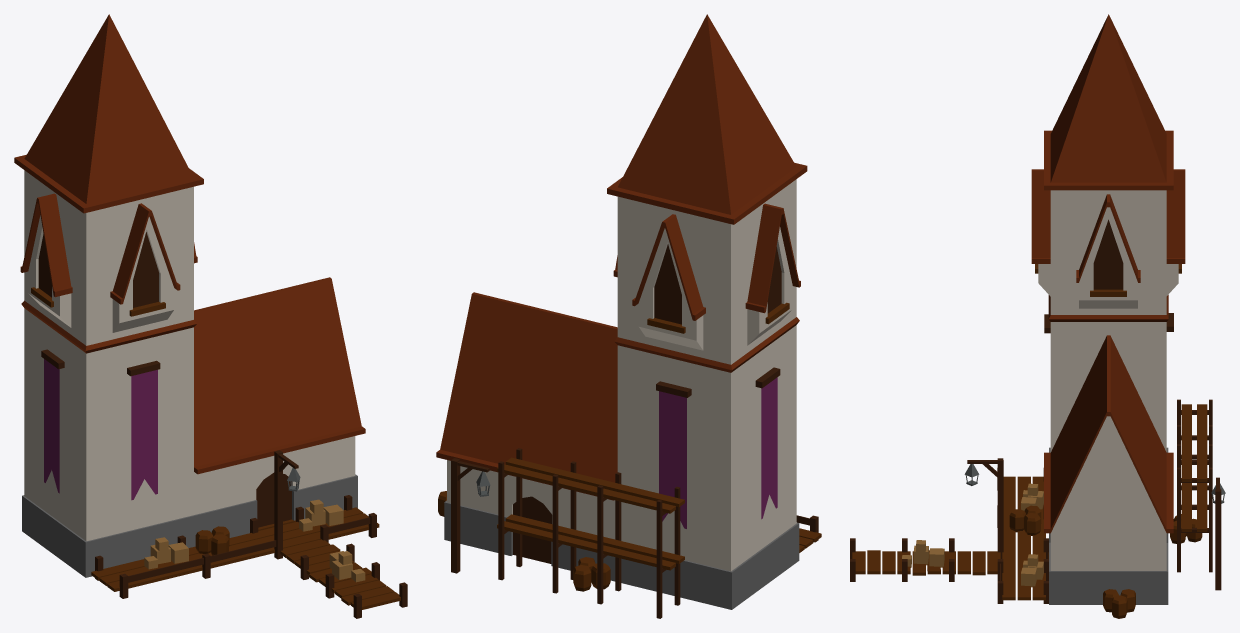
The model's file is PortBuildPhase3v1.fbx.
3 renders of one model, left to right at view 1: azimuth 30°, elevation 25°; view 2: azimuth 150°, elevation 25°; view 3: azimuth 270°, elevation 25°, orthographic. The views are drawn at different scales.
Visible parts, largest first — view 1: Plane.1246; view 2: Plane.1246; view 3: Plane.1246.
Part boxes in pixels (x1,y1,x2,y2): Plane.1246: (14, 14, 407, 618); Plane.1246: (436, 14, 821, 618); Plane.1246: (850, 14, 1225, 618).
Bounding box in the file's own units: 199 × 316 × 218.
